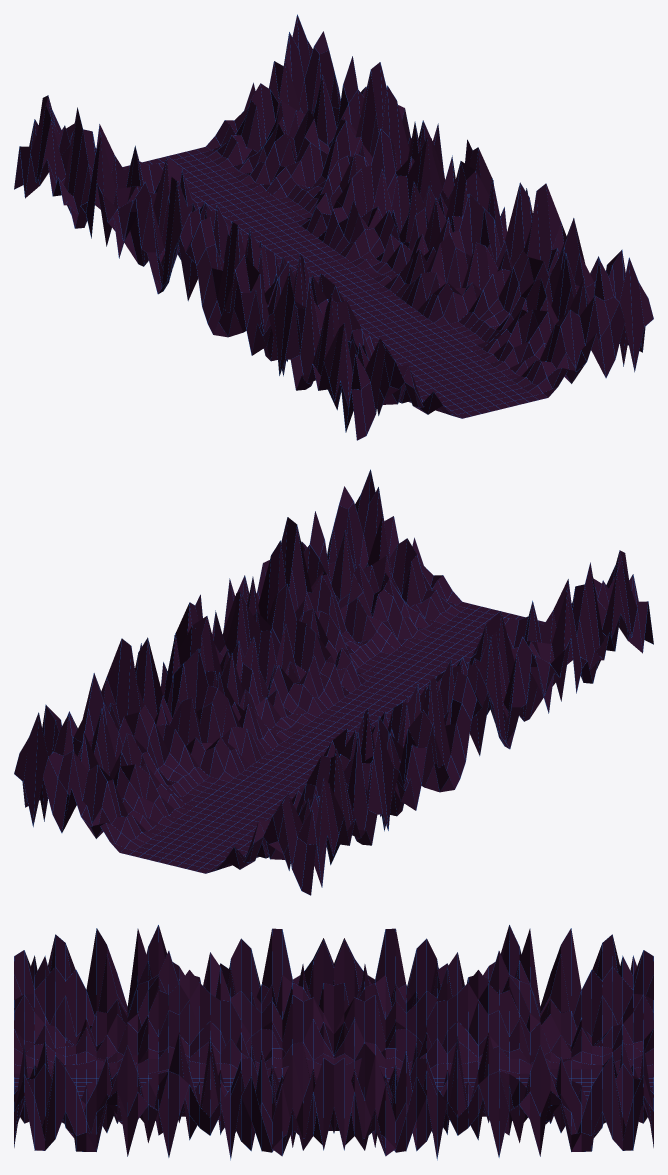
The model's file is MB001-origin-moved.obj.
3 renders of one model, top to bottom at view 1: azimuth 30°, elevation 25°; view 2: azimuth 150°, elevation 25°; view 3: azimuth 270°, elevation 25°, orthographic. The views are drawn at different scales.
Parts seen in each view (by area): view 1: mountains-big.005_mountains-big.005_violette-surface, mountains-big.005_mountains-big.005_blue-wireframe; view 2: mountains-big.005_mountains-big.005_violette-surface, mountains-big.005_mountains-big.005_blue-wireframe; view 3: mountains-big.005_mountains-big.005_violette-surface, mountains-big.005_mountains-big.005_blue-wireframe.
Boxes of the visible parts, x1,y1,x2,y2 form: mountains-big.005_mountains-big.005_violette-surface: [14, 15, 653, 440]; mountains-big.005_mountains-big.005_blue-wireframe: [14, 14, 653, 438]; mountains-big.005_mountains-big.005_violette-surface: [14, 470, 653, 895]; mountains-big.005_mountains-big.005_blue-wireframe: [14, 469, 653, 893]; mountains-big.005_mountains-big.005_violette-surface: [14, 925, 653, 1157]; mountains-big.005_mountains-big.005_blue-wireframe: [14, 925, 653, 1160].
Bounding box in the file's own units: 200 × 82.89 × 400.
